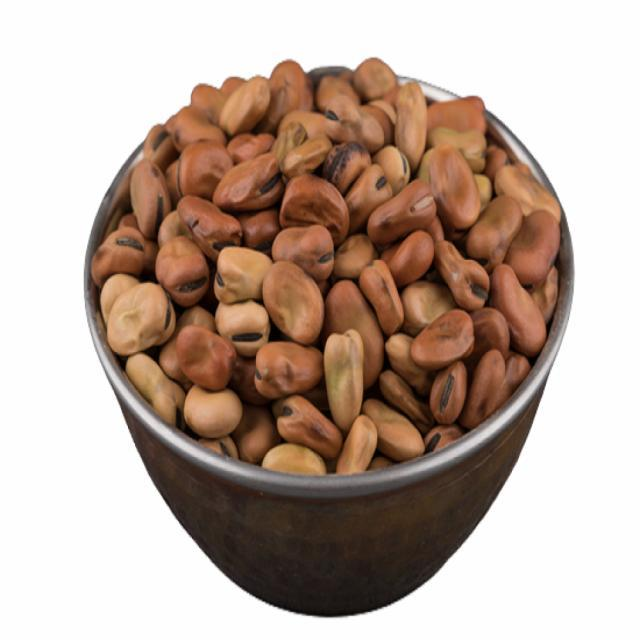fool: (84, 56, 573, 483)
